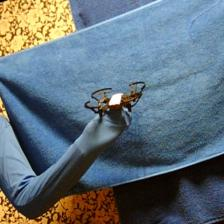drone: (83, 78, 146, 115)
